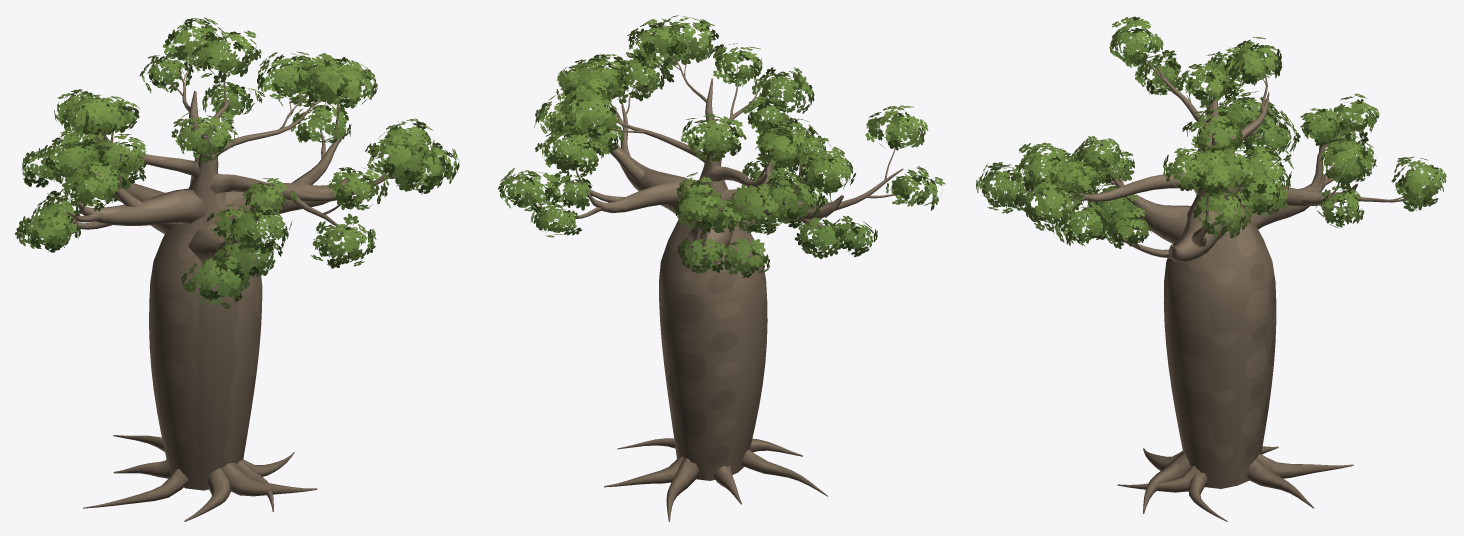
Rendered from tree.gltf.
3 views of the same model, side by side, from view 1: azimuth 30°, elevation 25°; view 2: azimuth 150°, elevation 25°; view 3: azimuth 270°, elevation 25° (orthographic). The views are drawn at different scales.
Visible parts, largest first — view 1: Tree_LOD0; view 2: Tree_LOD0; view 3: Tree_LOD0.
Part boxes in pixels (x1=…): Tree_LOD0: x1=15, y1=17, x2=459, y2=521; Tree_LOD0: x1=498, y1=15, x2=945, y2=521; Tree_LOD0: x1=976, y1=16, x2=1446, y2=521.
Size of the model in its own units: 24.42 by 23.17 by 25.32.
2 materials, 2 textured.
